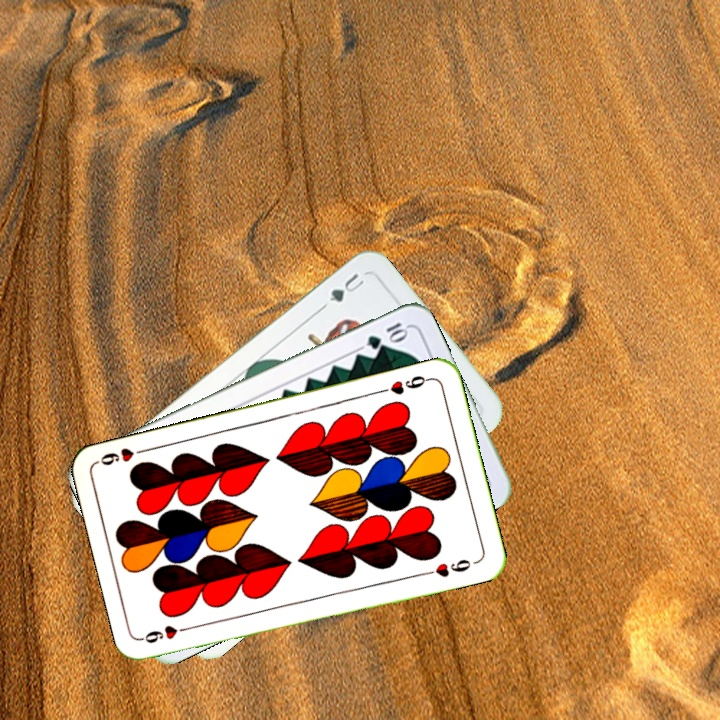G10: (362, 318, 411, 352)
GU: (325, 269, 367, 305)
H9: (376, 371, 434, 398), (139, 621, 198, 646)
